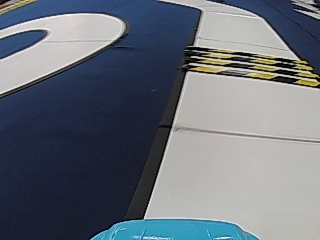bump: (196, 48, 300, 79)
